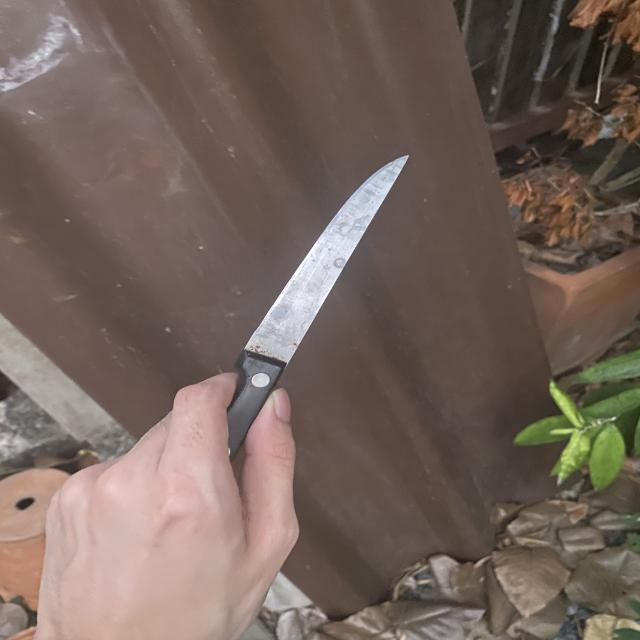faca: (53, 144, 438, 536)
